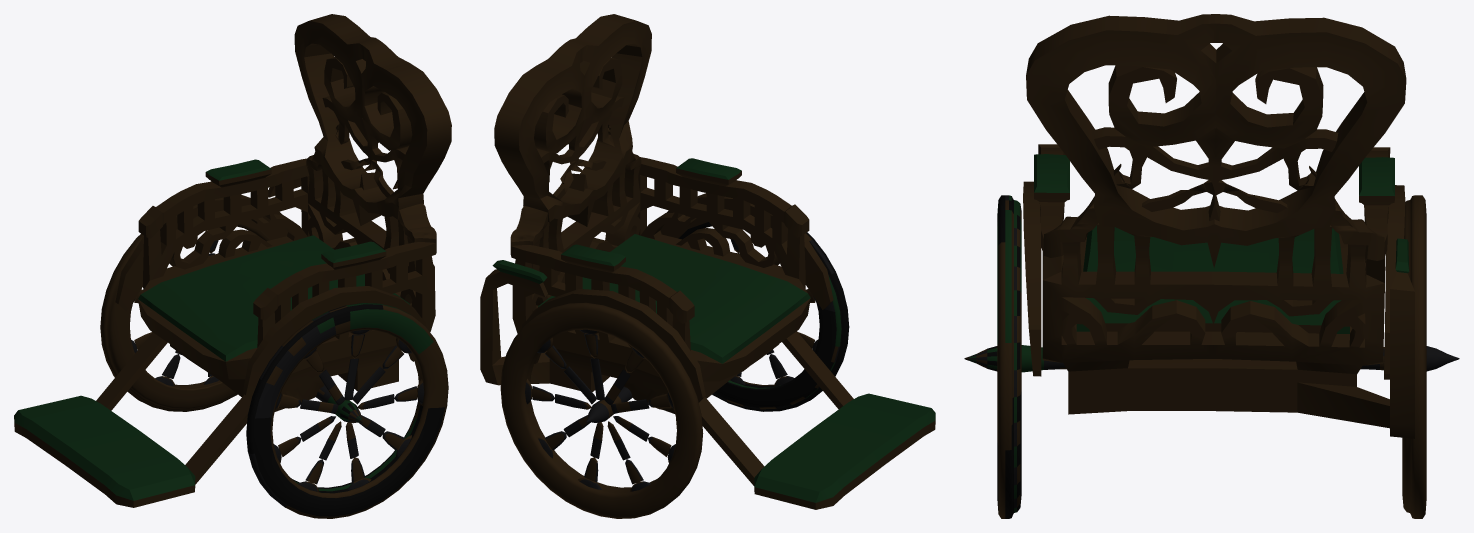
3 renders of one model, left to right at view 1: azimuth 30°, elevation 25°; view 2: azimuth 150°, elevation 25°; view 3: azimuth 270°, elevation 25°, orthographic. The views are drawn at different scales.
Visible parts, largest first — view 1: Tube002, Cylinder001; view 2: Tube002, Cylinder001; view 3: Tube002, Cylinder001.
Part boxes in pixels (x1,y1,x2,y2): Tube002: (14,14,451,507); Cylinder001: (100,223,448,518); Tube002: (480,14,935,509); Cylinder001: (500,222,849,518); Tube002: (1023,14,1414,438); Cylinder001: (964,195,1459,518).
Bounding box in the file's own units: 25.88 × 29.31 × 23.72.
